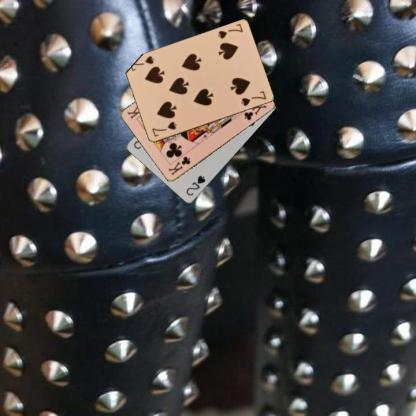2s: (183, 173, 207, 197)
7s: (149, 119, 178, 138), (215, 22, 244, 40)
Kc: (166, 154, 192, 176)
